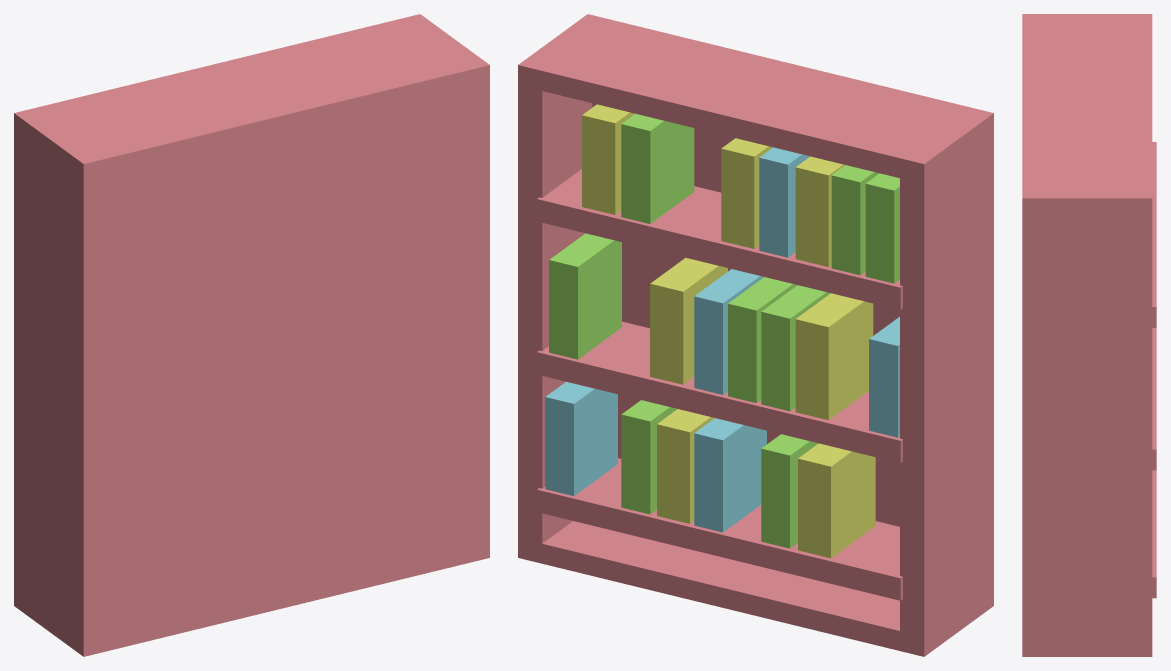
File: bookshelf_low 1.fbx
3 renders of one model, left to right at view 1: azimuth 30°, elevation 25°; view 2: azimuth 150°, elevation 25°; view 3: azimuth 270°, elevation 25°, orthographic. The views are drawn at different scales.
Visible parts, largest first — view 1: backpart_low; view 2: backpart_low, book1_low.001, book3_low.001, book2_low.002, shelf_low, shelf_low.001, shelf_low.002; view 3: backpart_low, shelf_low.002, shelf_low.001, shelf_low.
Part boxes in pixels (box(x1,y1,x2,y2)): backpart_low: box(14, 14, 489, 656); backpart_low: box(518, 14, 993, 656); book1_low.001: box(549, 113, 899, 548); book3_low.001: box(582, 104, 875, 558); book2_low.002: box(545, 147, 899, 532); shelf_low: box(537, 458, 902, 600); shelf_low.001: box(537, 321, 902, 463); shelf_low.002: box(537, 169, 902, 309); backpart_low: box(1022, 14, 1152, 656); shelf_low.002: box(1152, 142, 1156, 327); shelf_low.001: box(1152, 328, 1156, 470); shelf_low: box(1152, 470, 1156, 598).
Bounding box in the file's own units: 1069 × 1239 × 328.
